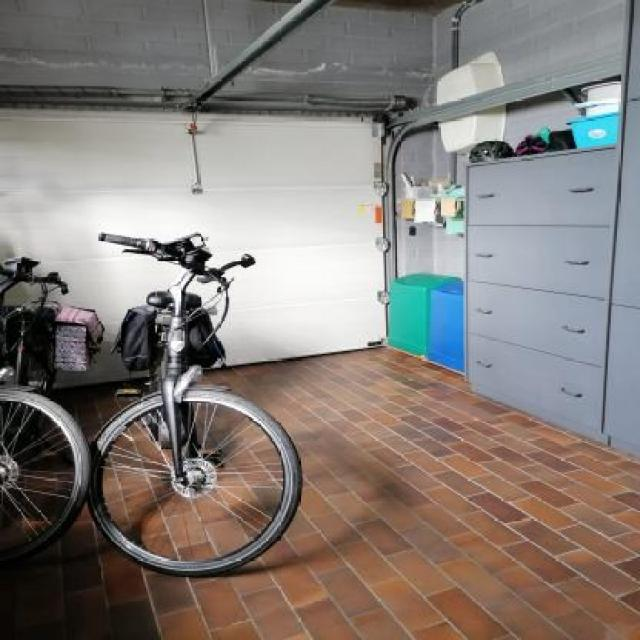Floor: (0, 346, 640, 640), (59, 378, 144, 446), (198, 495, 260, 539), (211, 487, 271, 526), (114, 424, 168, 466), (207, 493, 265, 532), (215, 436, 281, 469), (204, 405, 247, 449), (221, 488, 283, 518), (103, 469, 160, 495), (222, 430, 267, 462), (107, 453, 172, 472), (216, 418, 254, 449), (110, 447, 155, 462), (216, 472, 283, 482), (216, 464, 282, 473), (105, 466, 154, 476), (195, 402, 206, 446), (216, 480, 283, 487), (205, 404, 215, 436), (135, 418, 150, 438), (162, 449, 173, 464), (192, 403, 198, 416)
